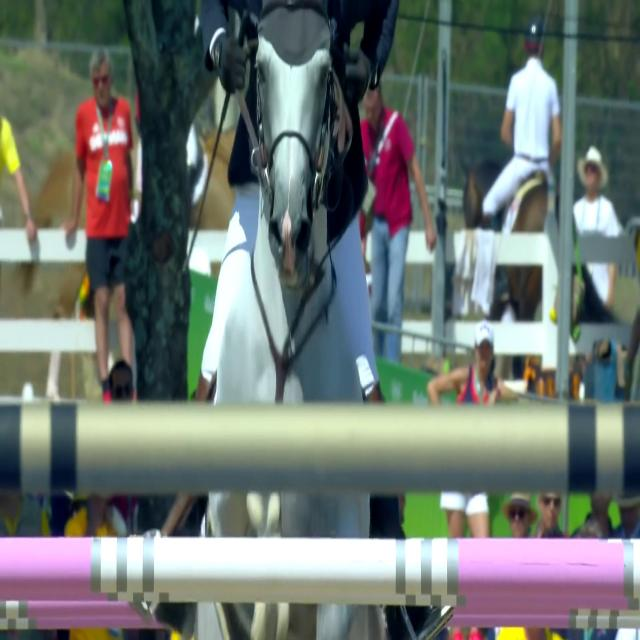Horse Running: (198, 17, 408, 599)
